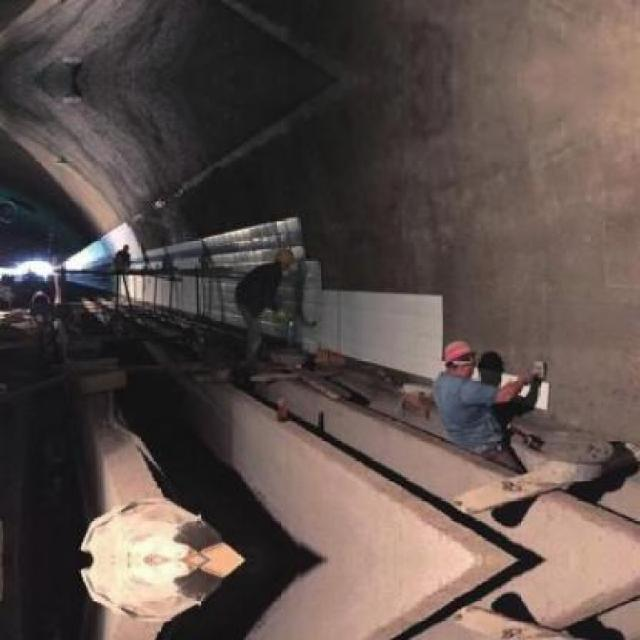helmet: (442, 337, 476, 377), (273, 245, 293, 269)
